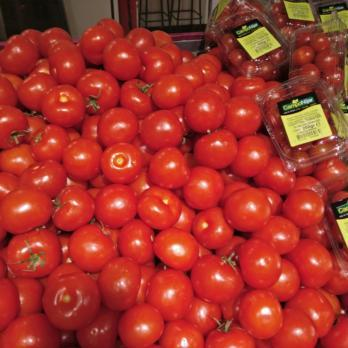Tomato: (0, 19, 233, 348), (189, 78, 348, 348)
